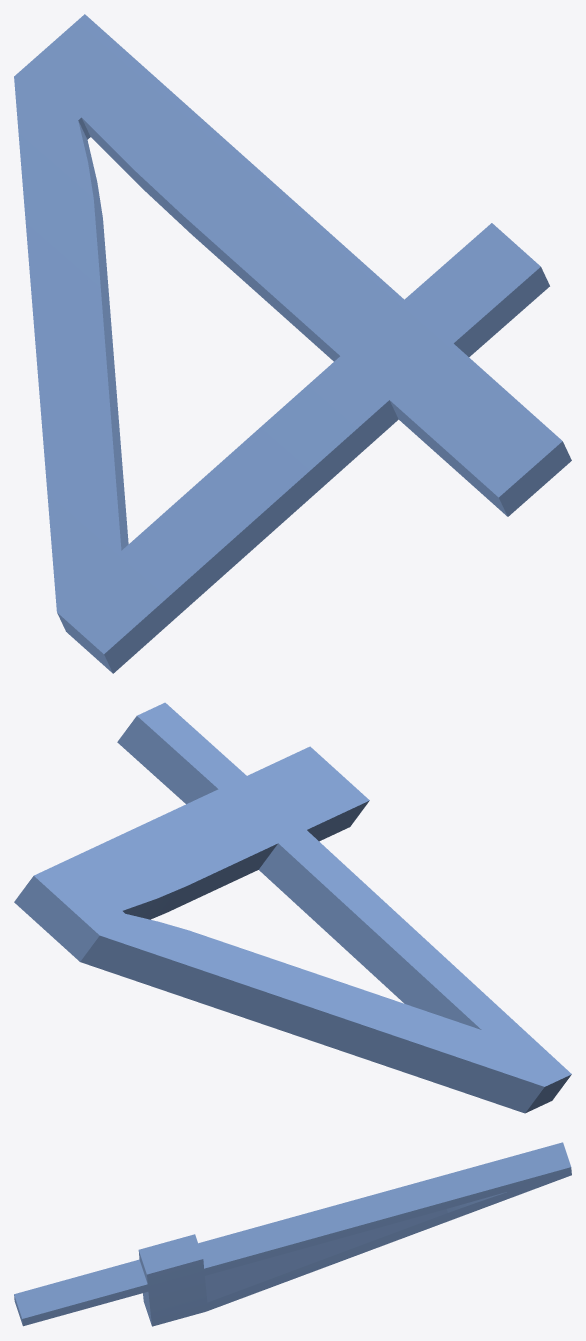
File: New_Number_4.gltf
The picture shows the model from 3 angles, top to bottom: view 1: azimuth 30°, elevation 25°; view 2: azimuth 150°, elevation 25°; view 3: azimuth 270°, elevation 25°; orthographic projection. The views are drawn at different scales.
Parts seen in each view (by area): view 1: Part 724; view 2: Part 724; view 3: Part 724.
Part boxes in pixels (x1,y1,x2,y2): Part 724: (14, 14, 571, 673); Part 724: (14, 702, 571, 1113); Part 724: (14, 1142, 571, 1326).
Bounding box in the file's own units: 0.00365 × 0.00294 × 0.00541.
